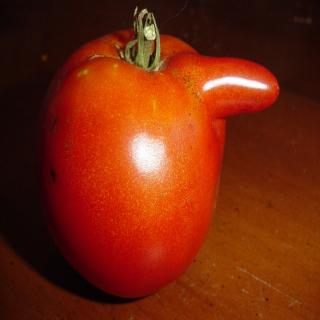tomato: (39, 5, 279, 300)
